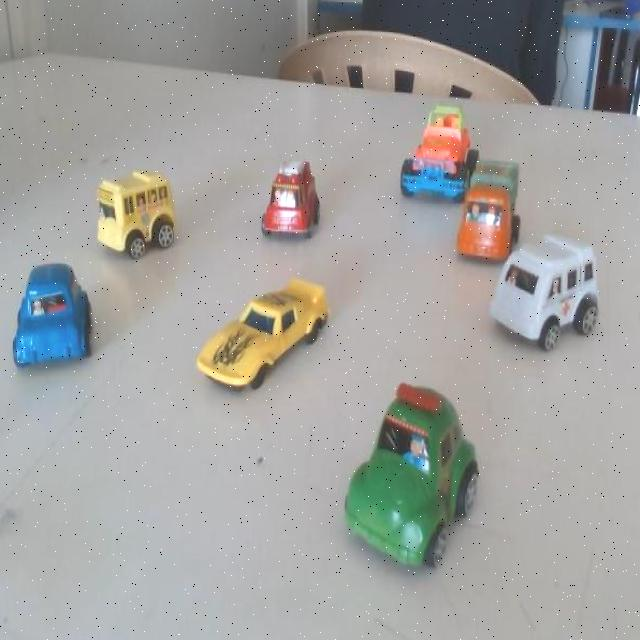car: (337, 386, 491, 569), (484, 219, 605, 369), (195, 272, 333, 399), (96, 167, 186, 270), (8, 264, 92, 373), (387, 97, 472, 204), (455, 148, 525, 272), (261, 151, 332, 253)
